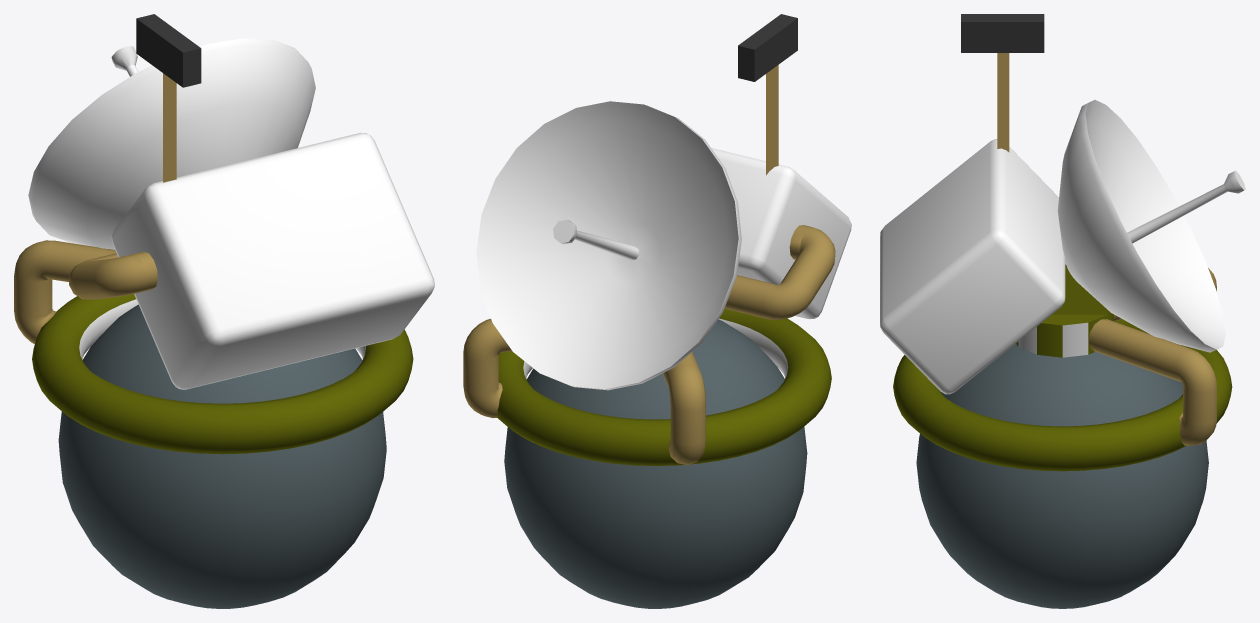
File: Machine1.fbx
The picture shows the model from 3 angles, left to right: view 1: azimuth 30°, elevation 25°; view 2: azimuth 150°, elevation 25°; view 3: azimuth 270°, elevation 25°; orthographic projection. The views are drawn at different scales.
Visible parts, largest first — view 1: Machine1, Ball1; view 2: Machine1, Ball1; view 3: Machine1, Ball1.
Boxes of the visible parts, x1,y1,x2,y2 form: Machine1: [14, 14, 434, 454]; Ball1: [58, 304, 386, 608]; Machine1: [463, 14, 851, 465]; Ball1: [504, 319, 807, 608]; Machine1: [880, 14, 1245, 471]; Ball1: [916, 343, 1208, 608].
Size of the model in its own units: 232 by 407 by 250.
